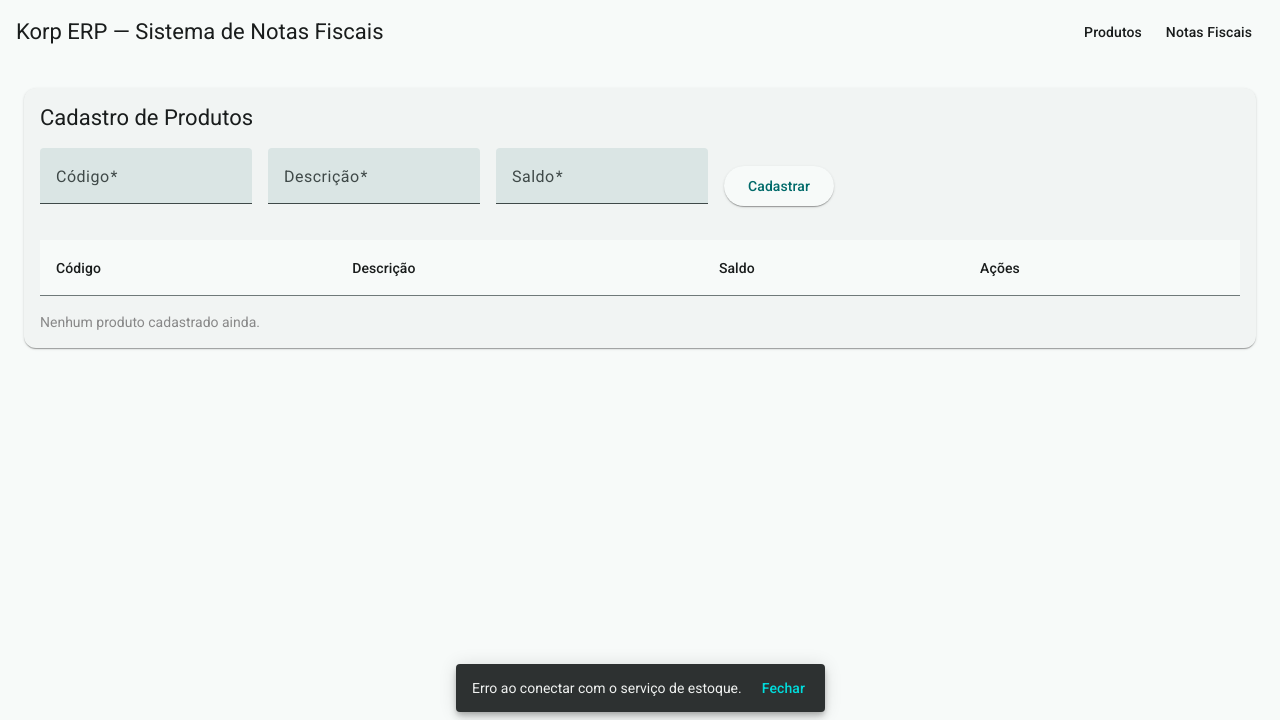
Cadastro de Produtos › não deve permitir saldo negativo
In the field named "codigo": (146, 184) [56,172,236,196], type "TEST002"
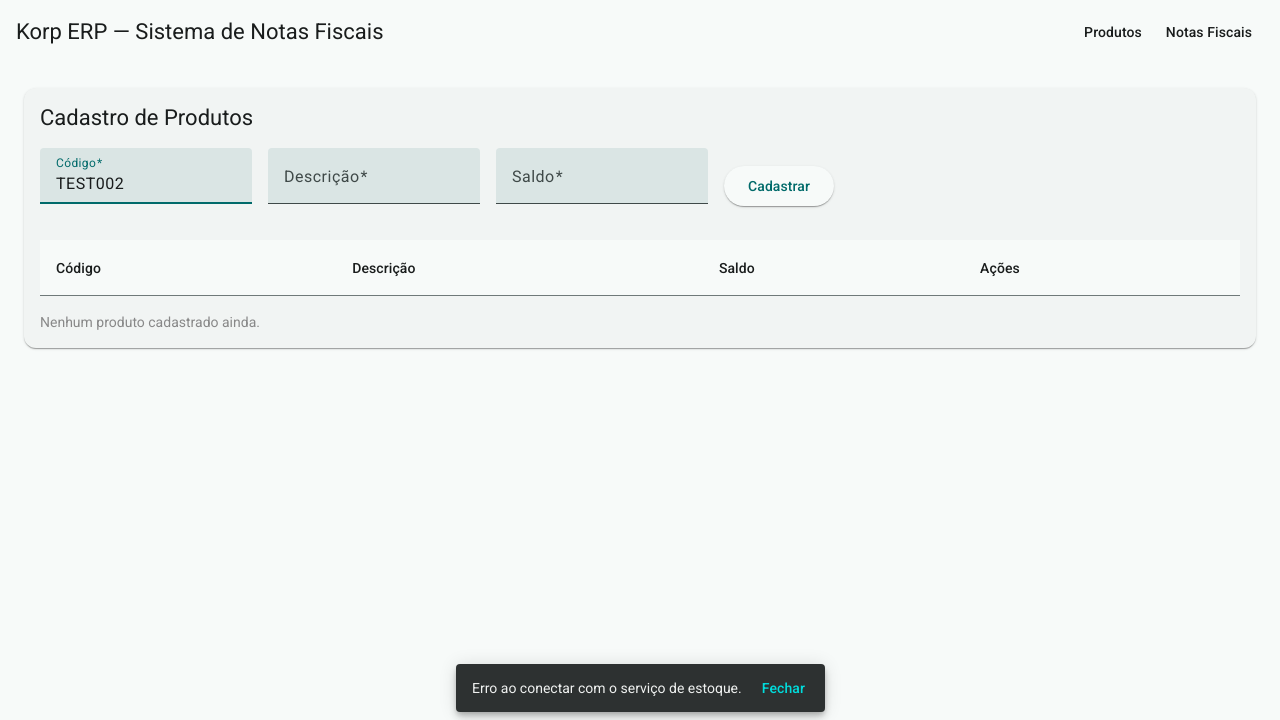
In the field named "descricao": (374, 184) [284,172,464,196], type "Produto Saldo Negativo"
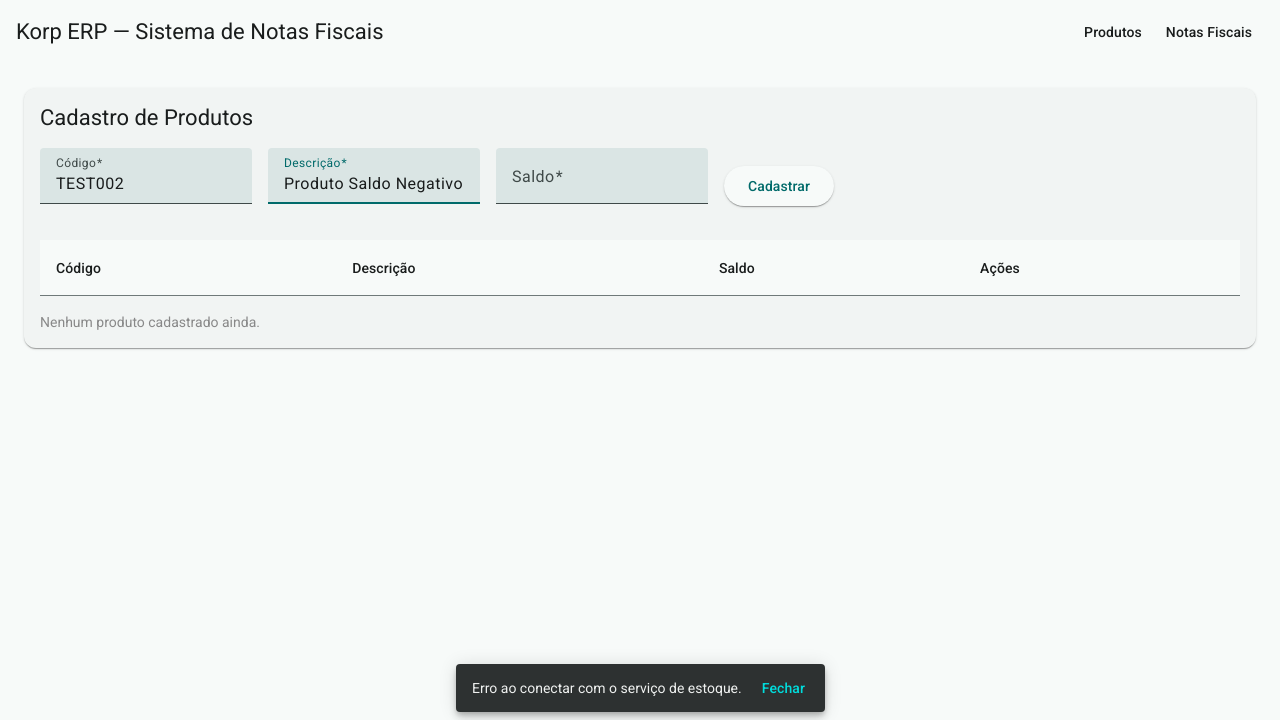
In the number field named "saldo": (602, 184) [512,172,692,196], type "-5"
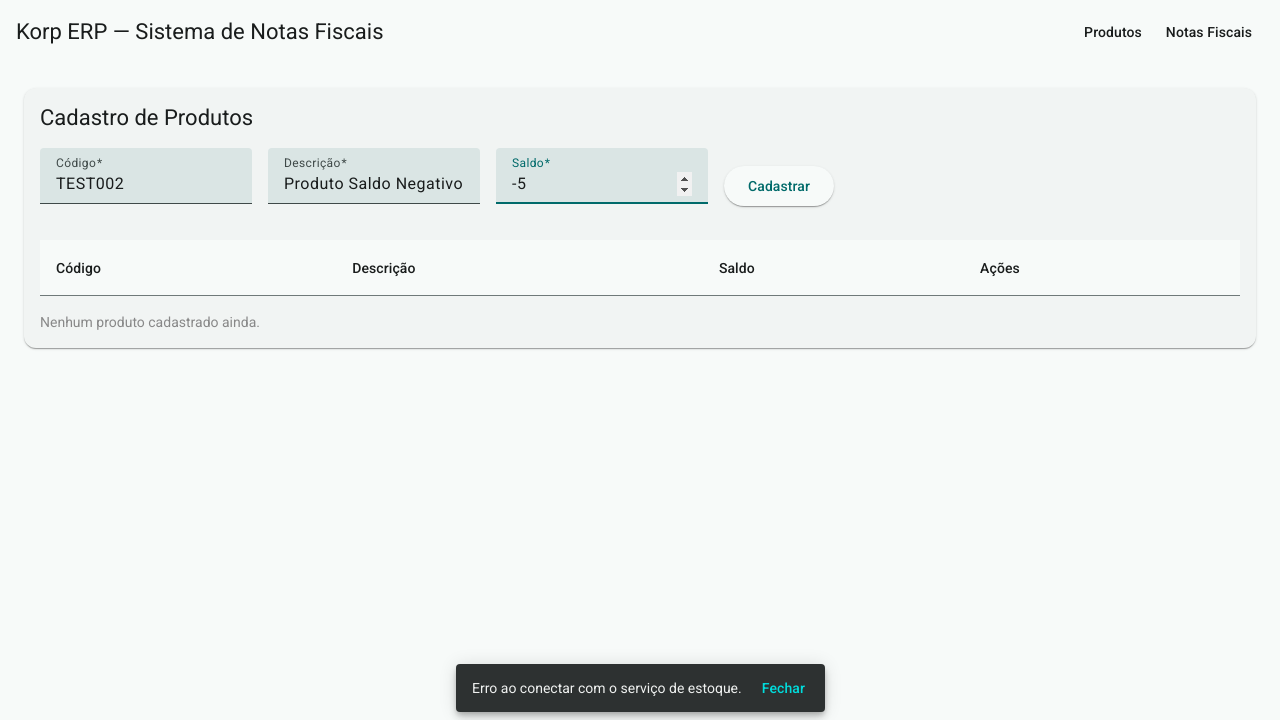
Click the button "Cadastrar": (779, 186) [724,166,834,206]
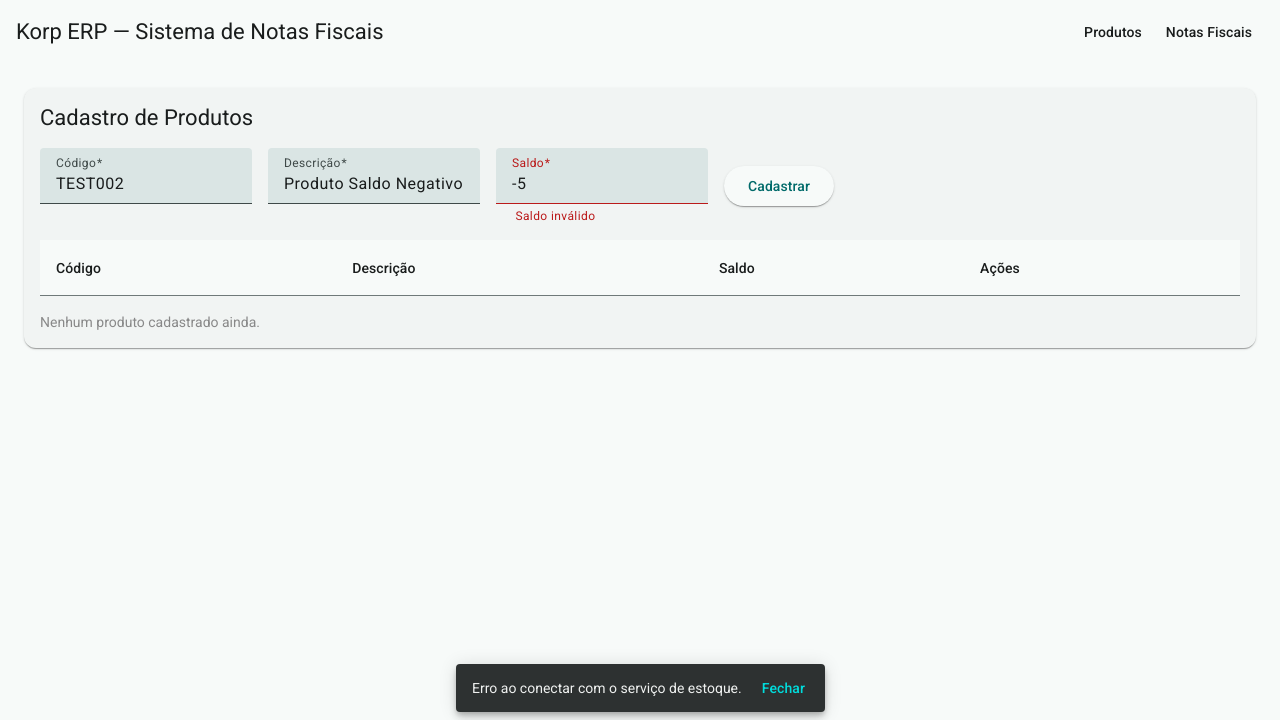
Expected: the text "Saldo inválido" is shown, [512,209,595,223]
